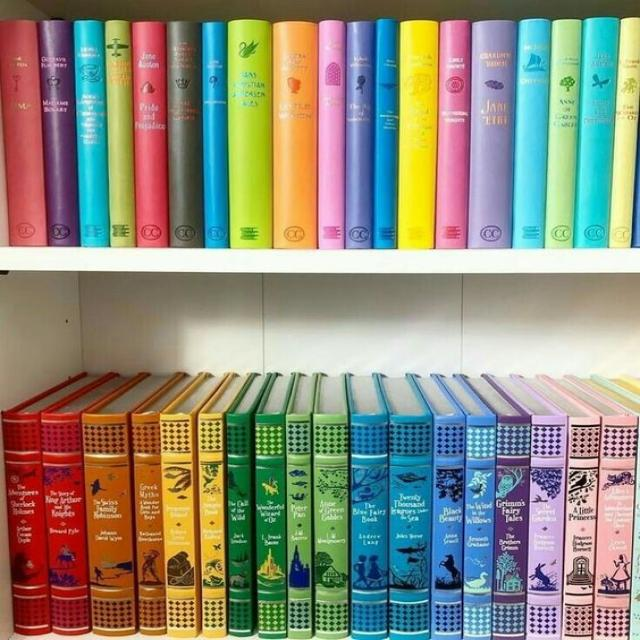book: (81, 414, 137, 634), (468, 21, 515, 250), (574, 19, 621, 248), (41, 415, 90, 633), (2, 413, 50, 634), (1, 21, 46, 246), (593, 415, 638, 640), (388, 416, 432, 640), (228, 21, 272, 244), (274, 22, 317, 249), (36, 21, 79, 245), (397, 21, 438, 249), (512, 20, 552, 249), (526, 416, 567, 639), (545, 19, 584, 250), (492, 416, 532, 640), (159, 413, 197, 638), (562, 418, 600, 640), (167, 21, 204, 247), (131, 21, 168, 246), (73, 22, 109, 247), (314, 416, 350, 640), (352, 417, 388, 639), (130, 413, 166, 634), (430, 417, 465, 639), (436, 22, 470, 249), (463, 415, 496, 640), (608, 18, 640, 248), (105, 21, 136, 247), (256, 415, 287, 638), (198, 415, 226, 636), (345, 22, 372, 250), (318, 21, 344, 250), (202, 22, 228, 248), (226, 415, 252, 637), (373, 21, 397, 249), (288, 416, 310, 639)
